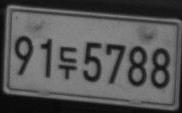1: (38, 37, 58, 77)
5: (81, 42, 102, 82)
7: (105, 43, 126, 84)
8: (126, 44, 148, 87), (149, 46, 170, 89)
9: (12, 34, 34, 75)
두: (59, 45, 78, 80)
